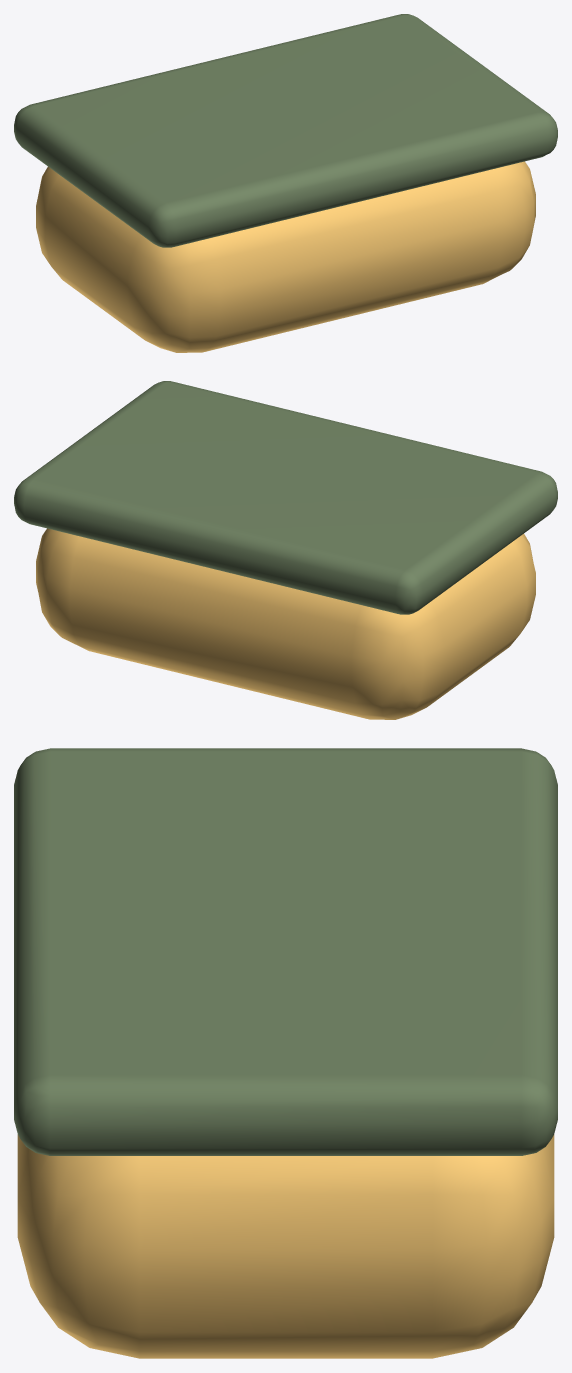
Rendered from sponge.obj.
3 views of the same model, one above another, from view 1: azimuth 30°, elevation 25°; view 2: azimuth 150°, elevation 25°; view 3: azimuth 270°, elevation 25° (orthographic). The views are drawn at different scales.
Visible parts, largest first — view 1: sponge_sageDark, sponge_seed; view 2: sponge_sageDark, sponge_seed; view 3: sponge_sageDark, sponge_seed.
Part boxes in pixels (x1=…): sponge_sageDark: x1=14, y1=14, x2=557, y2=247; sponge_seed: x1=36, y1=161, x2=535, y2=352; sponge_sageDark: x1=14, y1=381, x2=557, y2=614; sponge_seed: x1=36, y1=528, x2=535, y2=719; sponge_sageDark: x1=14, y1=748, x2=557, y2=1155; sponge_seed: x1=17, y1=1134, x2=554, y2=1358.
Bounding box in the file's own units: 0.117 × 0.048 × 0.076.
